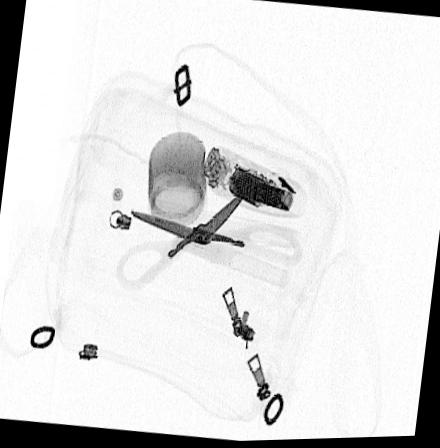Scissors: (112, 182, 304, 296)
